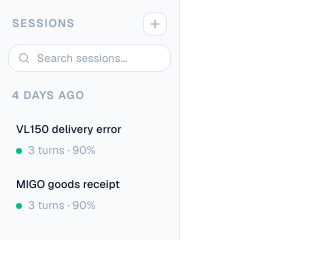
Test case: SessionSidebar › filters sessions by the debounced search query
In the search field labelled "Search sessions": (90, 58) [8,44,171,72], type "MIGO"
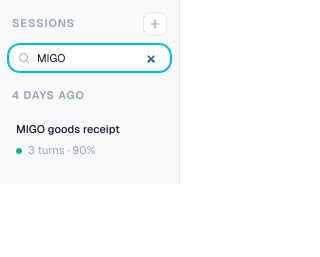
Expected: the text "MIGO goods receipt" is shown, [16,122,120,136]
Expected: the text "VL150 delivery error" is gone
